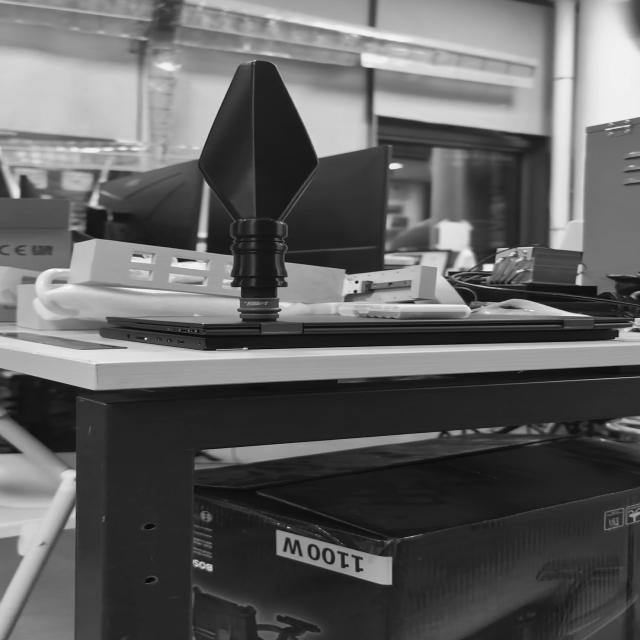base: (238, 297, 282, 320)
